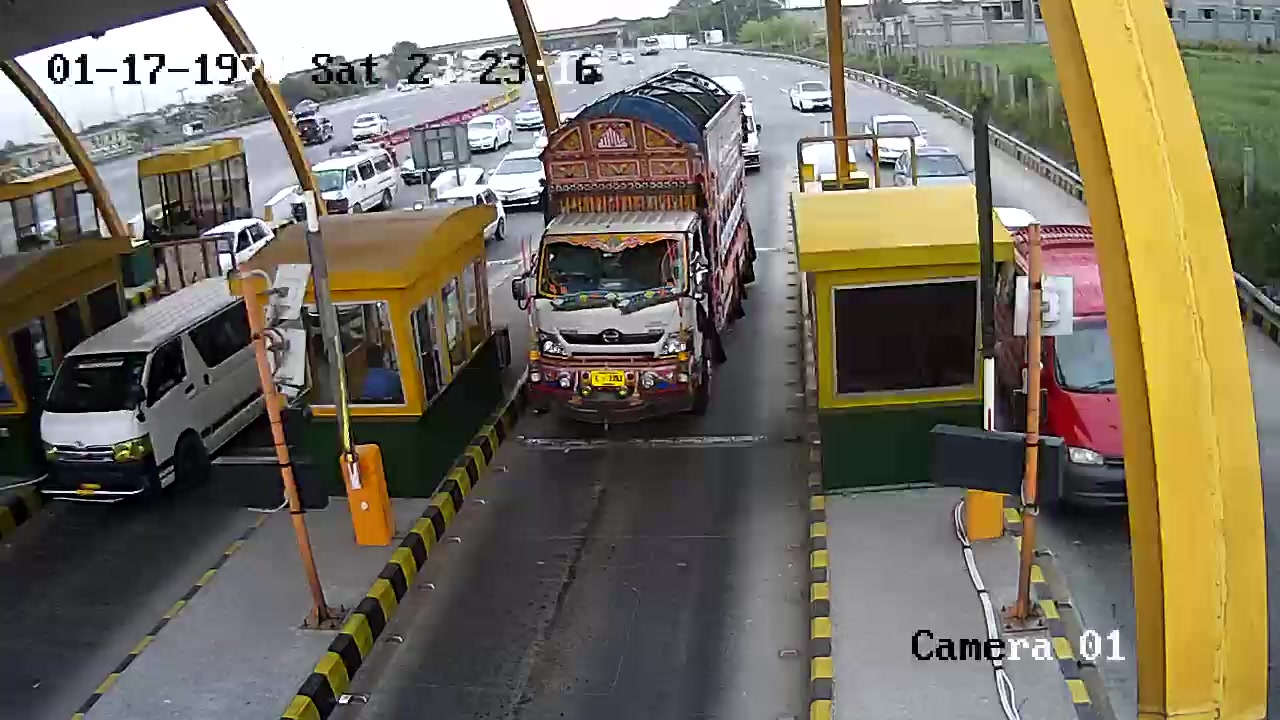F5: (522, 74, 760, 422)
